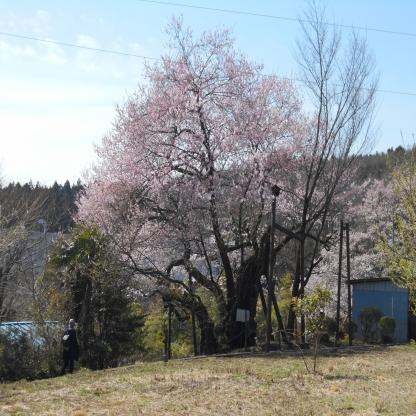EdohiganSakura: (69, 11, 338, 306)
